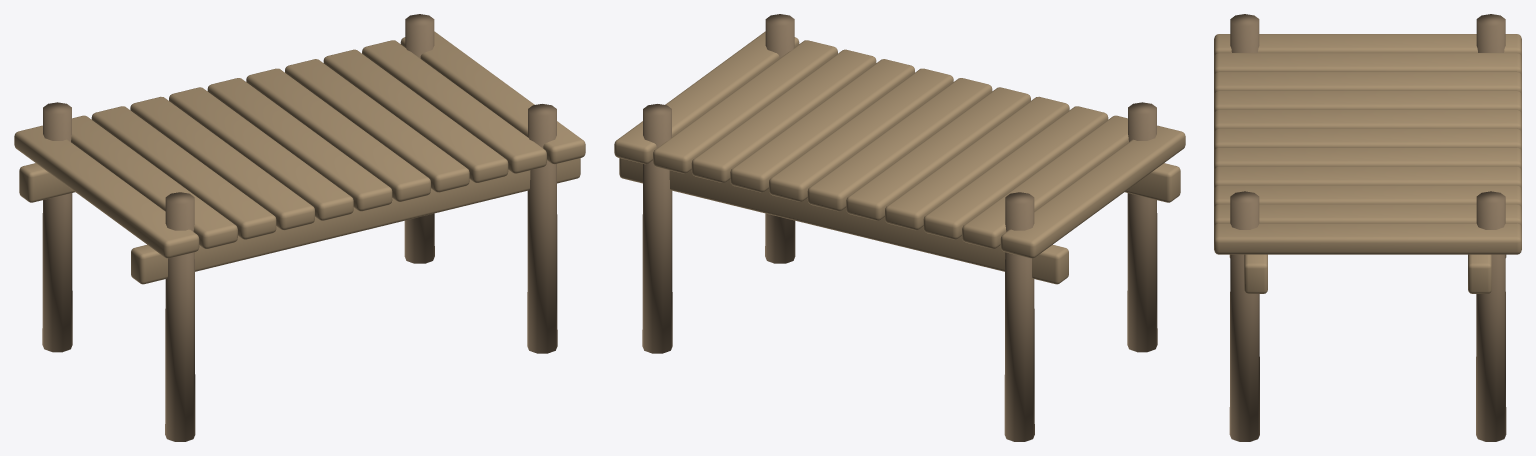
File: SM_LakeLanding_UV_0915.fbx
3 renders of one model, left to right at view 1: azimuth 30°, elevation 25°; view 2: azimuth 150°, elevation 25°; view 3: azimuth 270°, elevation 25°, orthographic.
Visible parts, largest first — view 1: SM_LakeLanding_UV_0915; view 2: SM_LakeLanding_UV_0915; view 3: SM_LakeLanding_UV_0915.
Part boxes in pixels (box(x1,y1,x2,y2)): SM_LakeLanding_UV_0915: box(14, 14, 585, 441); SM_LakeLanding_UV_0915: box(614, 14, 1185, 441); SM_LakeLanding_UV_0915: box(1214, 14, 1521, 441).
Bounding box in the file's own units: 365 × 220 × 188.
